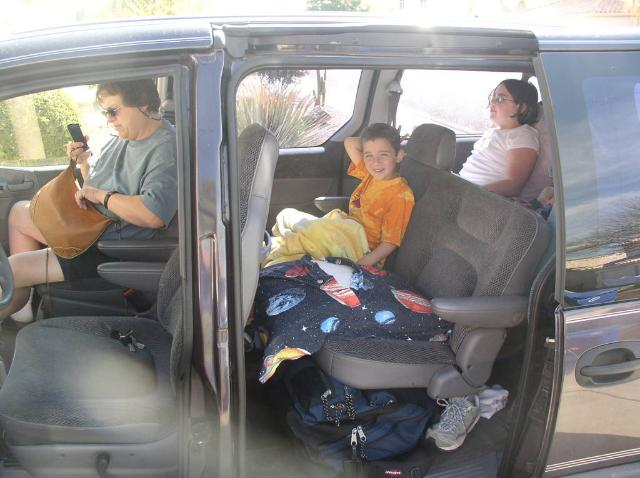Seatbelt: (386, 92, 399, 128)
